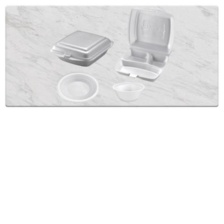foam_box: (113, 5, 178, 83), (46, 24, 118, 68), (53, 70, 101, 104), (109, 79, 149, 103)
